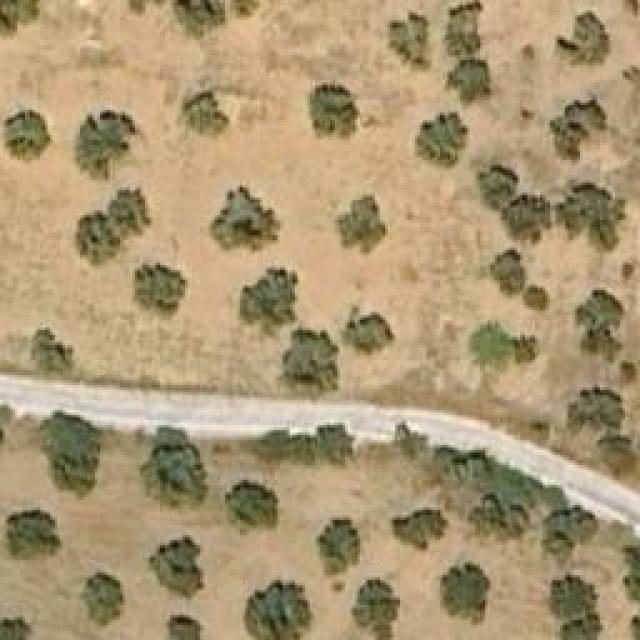Tree: (75, 185, 153, 268), (568, 388, 638, 478), (200, 187, 283, 255), (40, 413, 103, 498), (140, 428, 208, 503), (78, 110, 143, 180), (278, 330, 341, 400), (555, 183, 620, 248), (245, 580, 313, 640), (550, 93, 608, 163), (240, 267, 298, 335), (147, 535, 205, 600), (547, 575, 605, 640), (575, 290, 625, 363), (440, 563, 490, 628), (310, 78, 358, 143), (340, 305, 395, 360), (465, 323, 535, 366), (415, 113, 468, 168), (543, 508, 596, 563), (352, 580, 400, 640), (0, 110, 52, 165), (558, 13, 611, 66), (135, 263, 188, 316), (337, 195, 385, 253), (8, 508, 63, 558), (315, 518, 360, 578), (225, 480, 278, 528), (467, 493, 525, 536), (80, 573, 125, 628), (390, 10, 430, 70), (182, 90, 230, 138), (30, 328, 73, 378), (173, 0, 226, 38), (393, 510, 446, 548), (442, 5, 480, 55), (490, 250, 525, 298), (0, 0, 40, 38), (450, 58, 485, 101), (510, 198, 543, 238), (480, 165, 513, 200), (622, 543, 640, 606), (165, 615, 205, 640), (0, 615, 30, 640), (230, 0, 260, 18), (525, 288, 548, 308)
